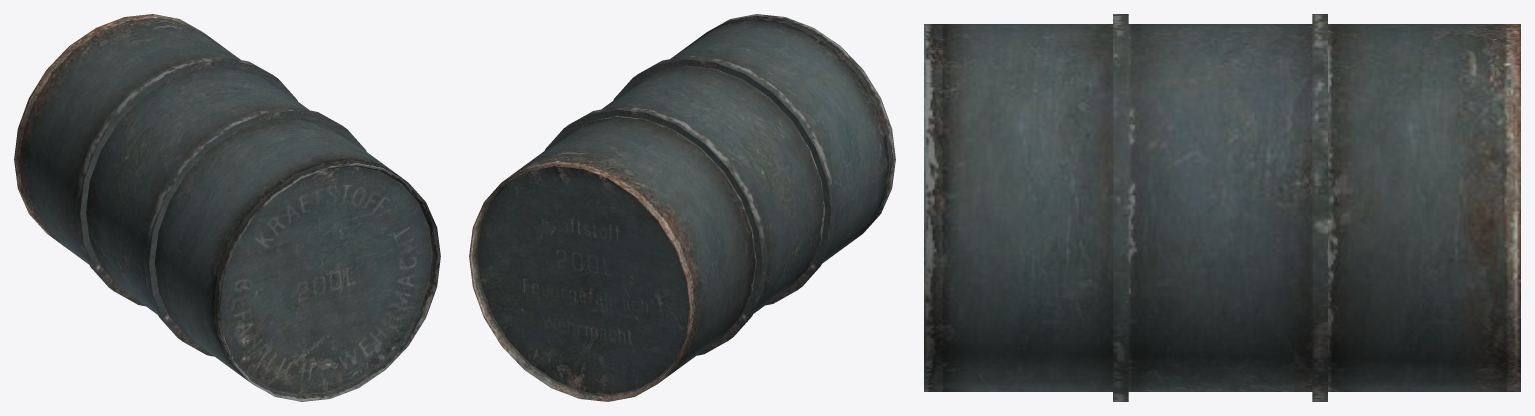
File: prop_barrel_green_wet.glb
3 views of the same model, side by side, from view 1: azimuth 30°, elevation 25°; view 2: azimuth 150°, elevation 25°; view 3: azimuth 270°, elevation 25° (orthographic). The views are drawn at different scales.
Bounding box in the file's own units: 28.93 × 28.93 × 44.32.
Materials: 1 (1 with a texture image).
